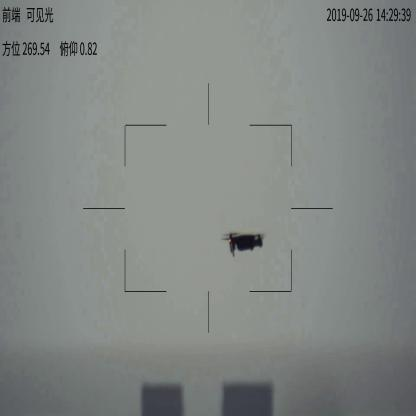uav: (216, 224, 266, 252)
